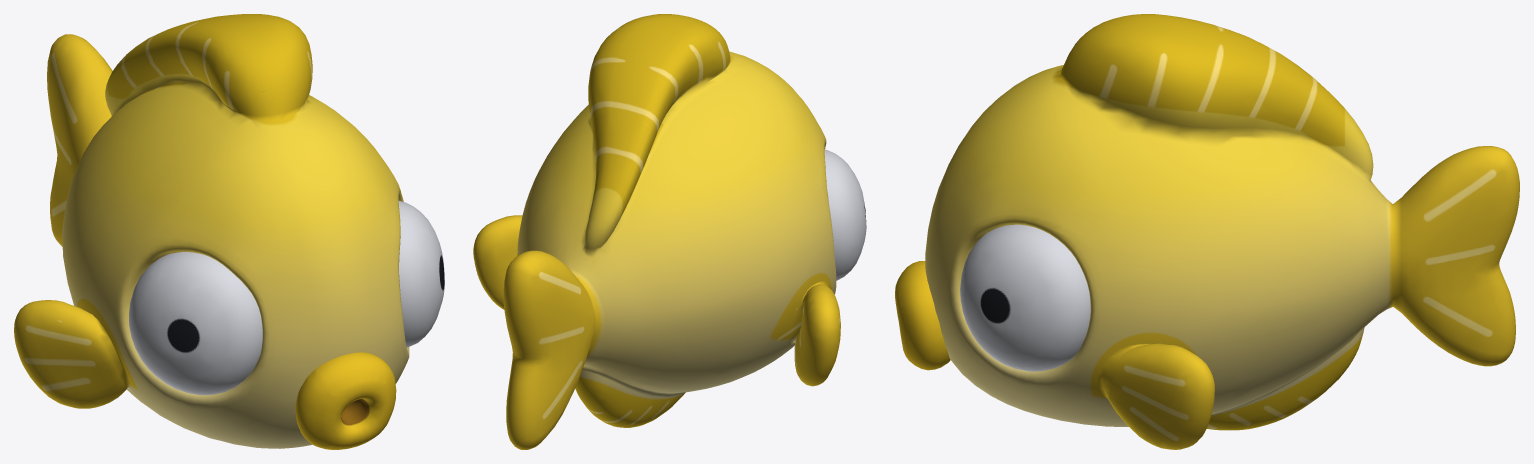
The model's file is yellow_tang_colored.glb.
The picture shows the model from 3 angles, left to right: view 1: azimuth 30°, elevation 25°; view 2: azimuth 150°, elevation 25°; view 3: azimuth 270°, elevation 25°; orthographic projection. The views are drawn at different scales.
Visible parts, largest first — view 1: yellow_tang_colored; view 2: yellow_tang_colored; view 3: yellow_tang_colored.
Boxes of the visible parts, <box> form: yellow_tang_colored: <box>14,14,444,449</box>; yellow_tang_colored: <box>473,14,866,449</box>; yellow_tang_colored: <box>895,14,1519,449</box>.
Size of the model in its own units: 0.7495 by 0.7251 by 0.9995.
1 material, 1 textured.
